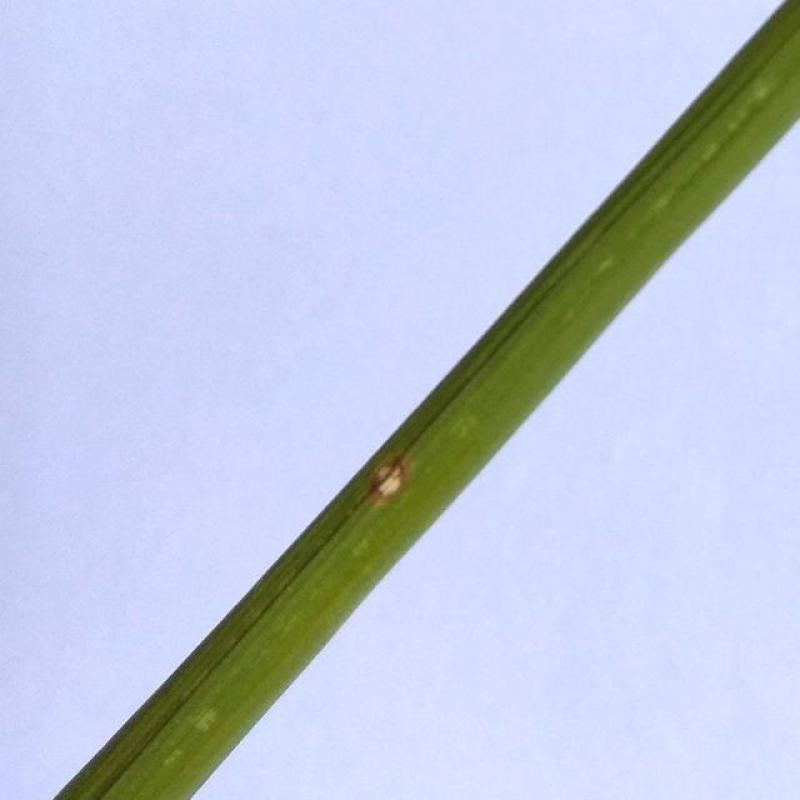Leaf_Blast: (352, 444, 418, 522)
